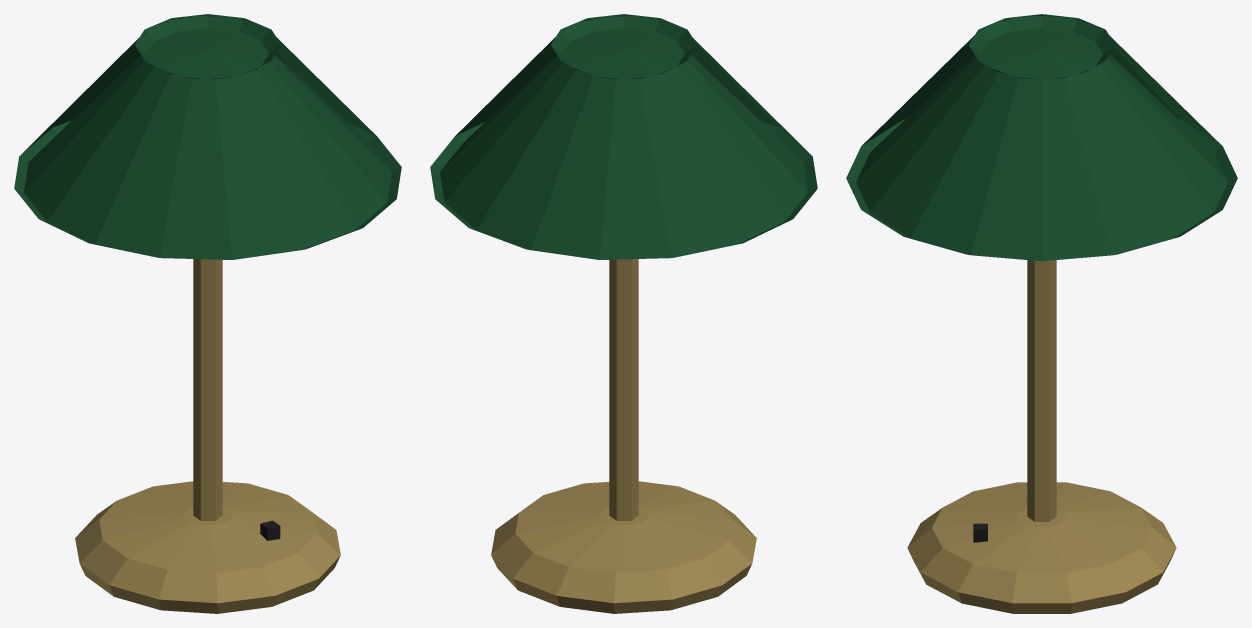
File: bureaulamp.glb
3 renders of one model, left to right at view 1: azimuth 30°, elevation 25°; view 2: azimuth 150°, elevation 25°; view 3: azimuth 270°, elevation 25°, orthographic.
Parts seen in each view (by area): view 1: Lamp; view 2: Lamp; view 3: Lamp.
Part boxes in pixels (x1,y1,x2,y2): Lamp: (14,14,401,613); Lamp: (430,14,817,613); Lamp: (846,14,1237,613).
Size of the model in its own units: 0.32 by 0.47 by 0.32.
